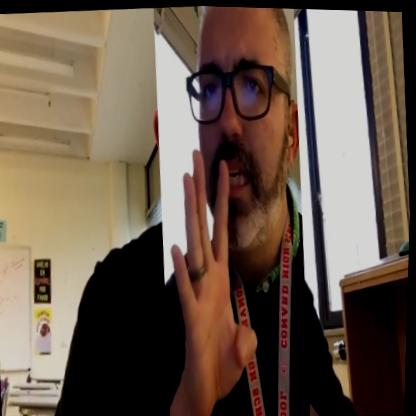Talk: (143, 4, 322, 416)
